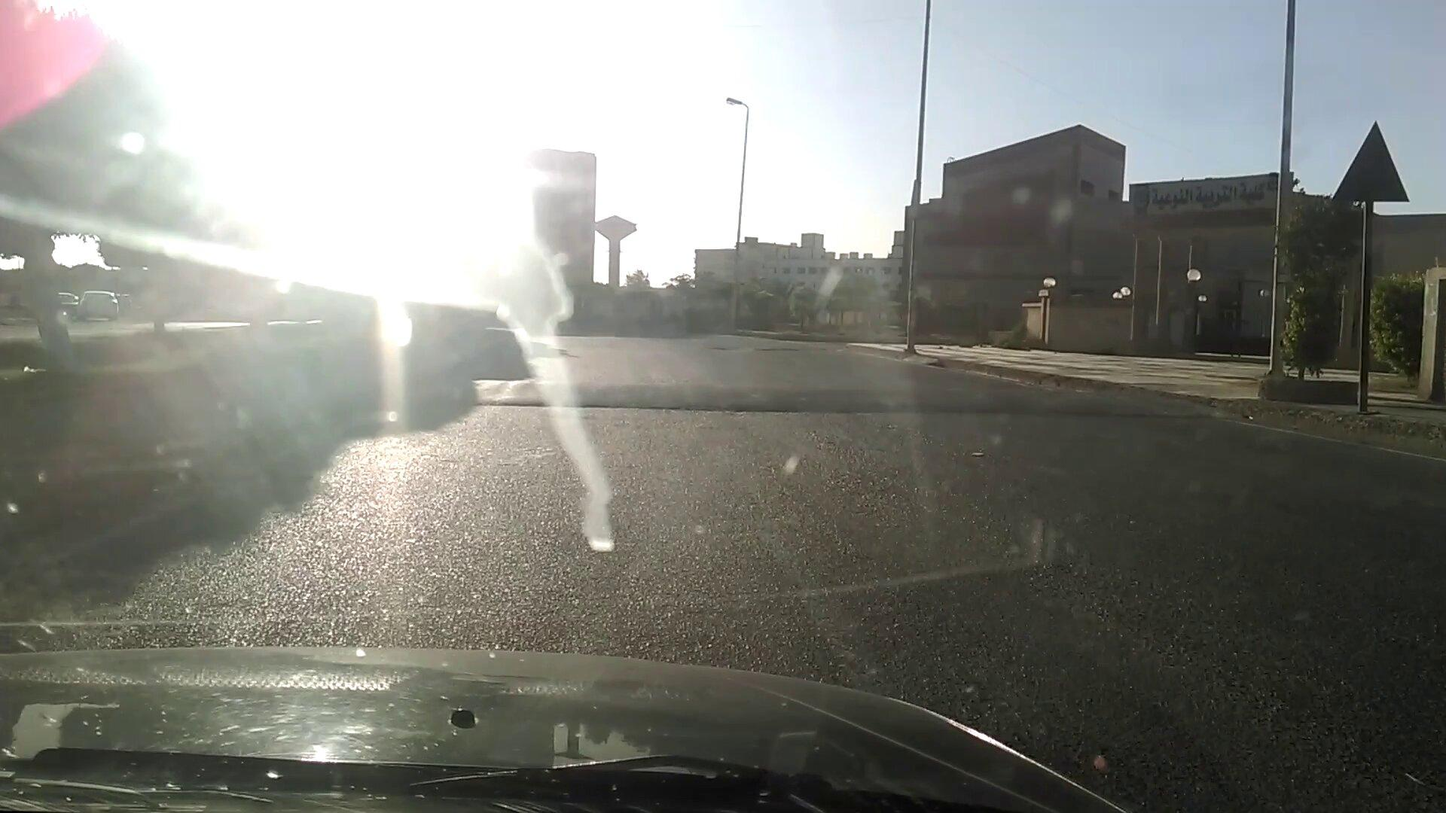Bump: (401, 375, 1228, 419)
